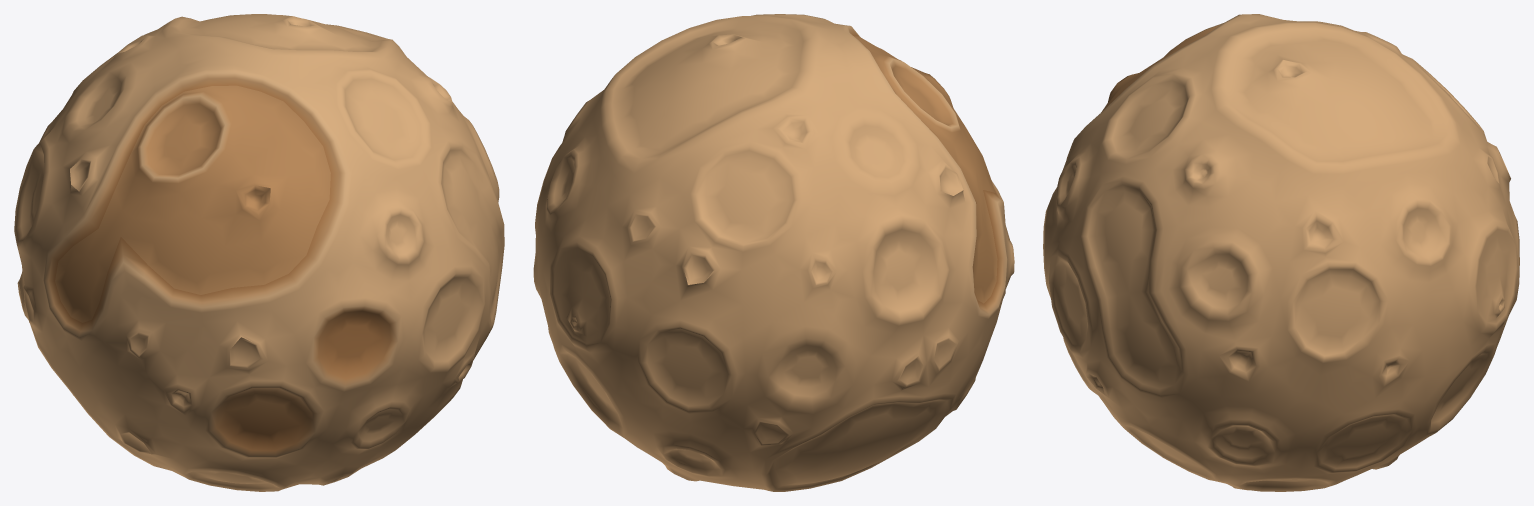
Rendered from Moon.fbx.
3 renders of one model, left to right at view 1: azimuth 30°, elevation 25°; view 2: azimuth 150°, elevation 25°; view 3: azimuth 270°, elevation 25°, orthographic. The views are drawn at different scales.
Parts seen in each view (by area): view 1: Moon; view 2: Moon; view 3: Moon.
Part boxes in pixels (x1=…): Moon: x1=14, y1=14, x2=504, y2=491; Moon: x1=533, y1=14, x2=1014, y2=491; Moon: x1=1043, y1=14, x2=1519, y2=491.
Bounding box in the file's own units: 602 × 595 × 605.
